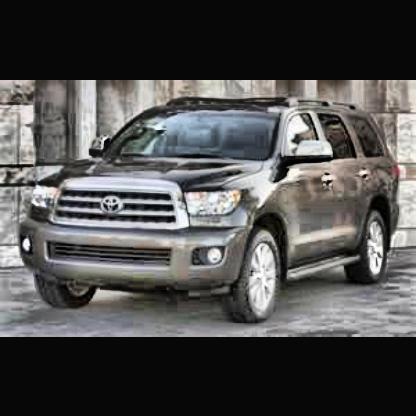Toyota Sequoia SUV 2012: (19, 92, 408, 330)
